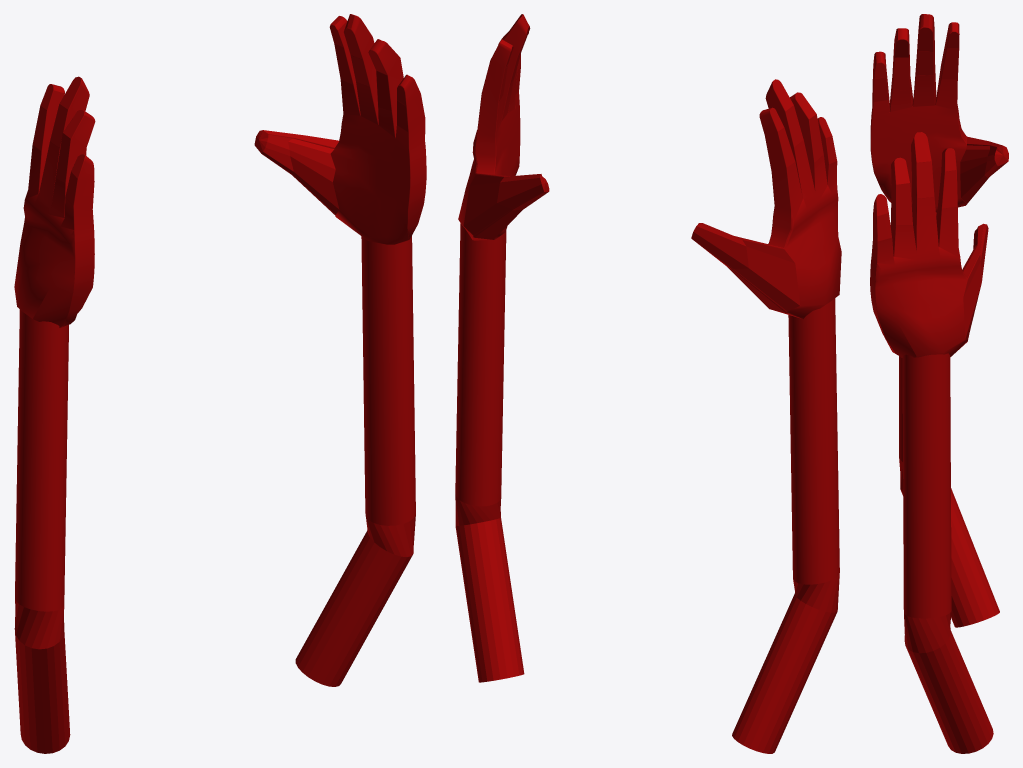
Rendered from Arms.fbx.
3 views of the same model, side by side, from view 1: azimuth 30°, elevation 25°; view 2: azimuth 150°, elevation 25°; view 3: azimuth 270°, elevation 25° (orthographic). The views are drawn at different scales.
Parts seen in each view (by area): view 1: pCylinder2, pCylinder3, pCube3, pCube4; view 2: pCylinder3, pCylinder2, pCube4, pCube3; view 3: pCylinder2, pCube3, pCube4, pCylinder3.
Boxes of the visible parts, box(x1,y1,x2,y2) form: pCylinder2: box(295, 236, 415, 686); pCylinder3: box(14, 309, 70, 753); pCube3: box(254, 14, 426, 244); pCube4: box(14, 76, 95, 328); pCylinder3: box(732, 298, 839, 753); pCylinder2: box(455, 223, 524, 682); pCube4: box(691, 79, 841, 318); pCube3: box(458, 14, 549, 240); pCylinder2: box(902, 353, 993, 753); pCube3: box(870, 132, 988, 357); pCube4: box(870, 14, 1008, 212); pCylinder3: box(899, 212, 999, 627).
Size of the model in its own units: 24.86 by 41.19 by 8.4.
